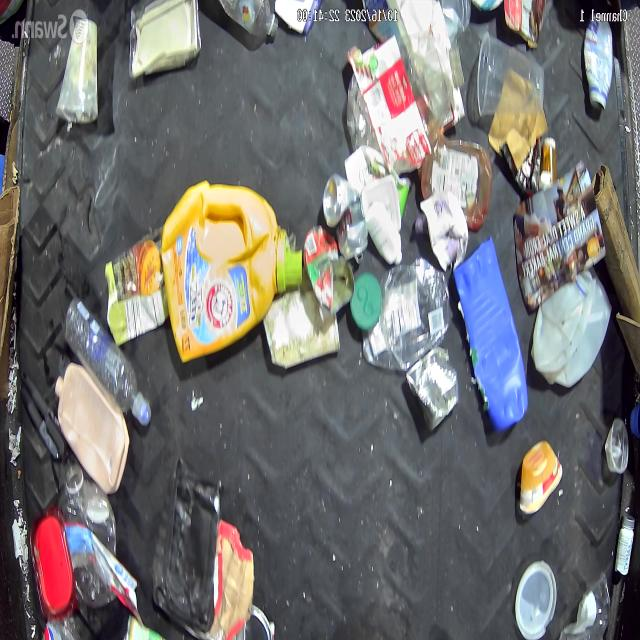can: (303, 224, 355, 314), (405, 346, 458, 434), (323, 173, 367, 261)
milk_jug: (528, 269, 611, 389)
non_white_jug: (161, 180, 302, 363)
plastic_bottle: (345, 36, 452, 174), (62, 293, 152, 422), (362, 256, 452, 370), (57, 463, 116, 608), (214, 0, 279, 38)
